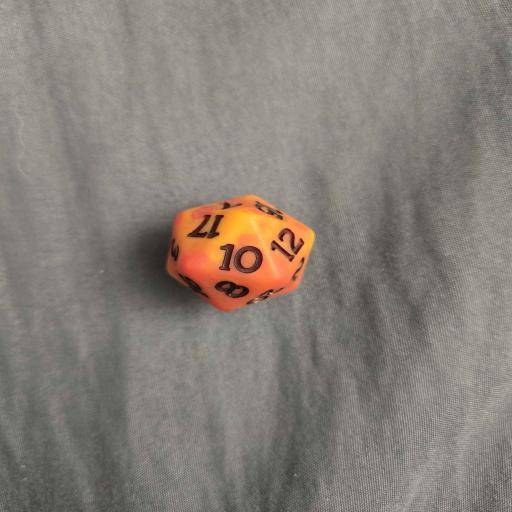twenty sided dice: (166, 195, 316, 311)
